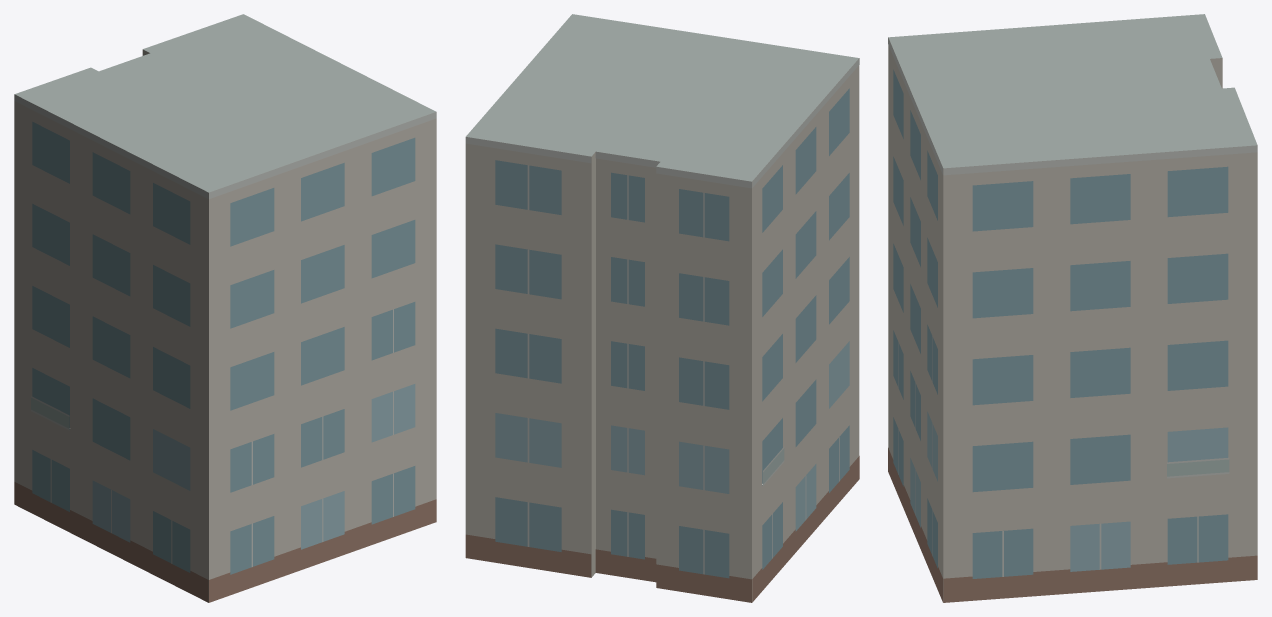
The model's file is survey-upis-32930657.glb.
The picture shows the model from 3 angles, left to right: view 1: azimuth 30°, elevation 25°; view 2: azimuth 150°, elevation 25°; view 3: azimuth 270°, elevation 25°; orthographic projection. The views are drawn at different scales.
Visible parts, largest first — view 1: survey-upis-32930657.tmp; view 2: survey-upis-32930657.tmp; view 3: survey-upis-32930657.tmp.
Boxes of the visible parts, box(x1,y1,x2,y2) form: survey-upis-32930657.tmp: box(14, 14, 436, 602); survey-upis-32930657.tmp: box(465, 14, 859, 602); survey-upis-32930657.tmp: box(888, 14, 1257, 602).
Size of the model in its own units: 11.51 by 15.09 by 11.64.
